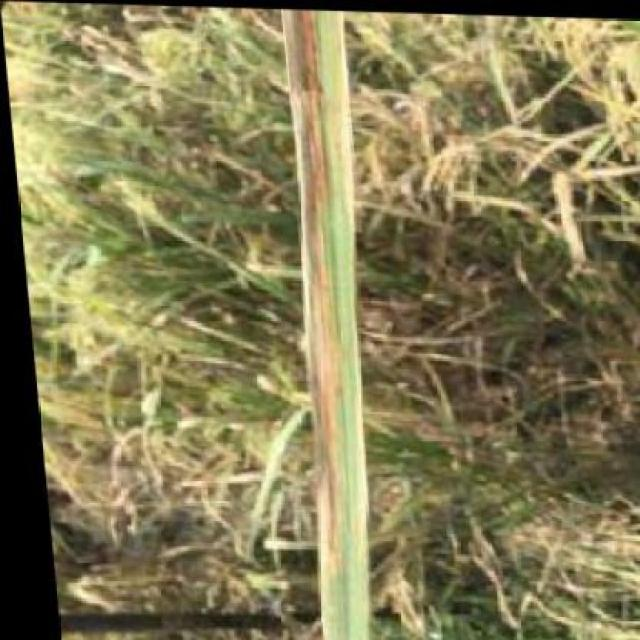Brown_Spot: (258, 26, 369, 588)
